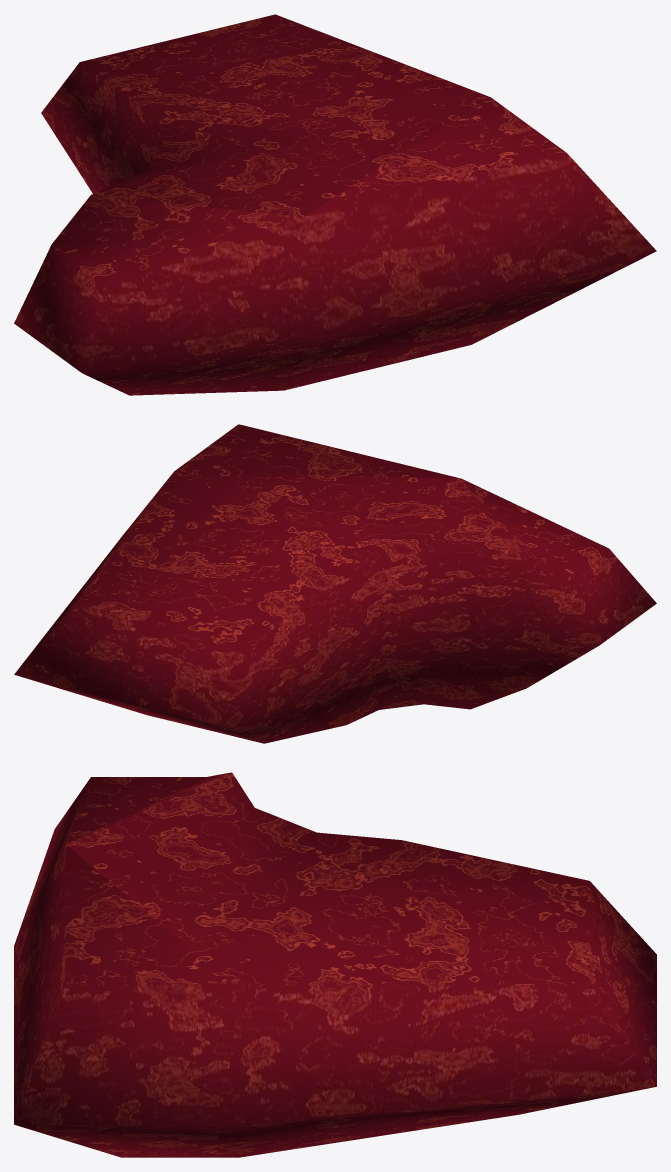
The model's file is laman loob 3.fbx.
3 views of the same model, one above another, from view 1: azimuth 30°, elevation 25°; view 2: azimuth 150°, elevation 25°; view 3: azimuth 270°, elevation 25° (orthographic). The views are drawn at different scales.
Visible parts, largest first — view 1: laman loob 3; view 2: laman loob 3; view 3: laman loob 3.
Part boxes in pixels (x1,y1,x2,y2): laman loob 3: (14,14,656,395); laman loob 3: (14,424,656,743); laman loob 3: (14,772,656,1157).
Size of the model in its own units: 14.64 by 5.28 by 15.91.
Materials: 1 (1 with a texture image).
